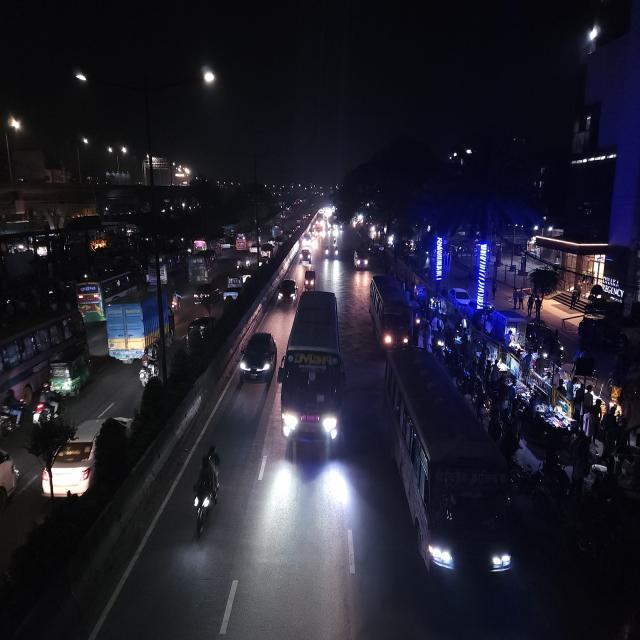bus: (383, 343, 513, 601), (280, 287, 344, 460), (0, 308, 81, 399), (368, 272, 412, 355), (78, 268, 139, 316), (146, 248, 183, 287), (188, 247, 216, 284), (235, 230, 255, 252)
car: (35, 411, 133, 504), (236, 328, 277, 388), (0, 441, 22, 529), (185, 312, 217, 347), (448, 284, 474, 313), (193, 280, 219, 305), (276, 276, 296, 308), (352, 245, 370, 273), (299, 246, 313, 267), (260, 241, 274, 262), (303, 232, 314, 248)
cng: (48, 346, 92, 398), (303, 266, 317, 290)
motorcycle: (188, 441, 225, 538), (0, 388, 26, 437), (32, 384, 62, 426), (136, 358, 156, 392), (168, 288, 183, 314), (322, 242, 330, 260), (333, 242, 339, 261)
pickup_van: (224, 270, 250, 306)
truck: (105, 293, 171, 363)
